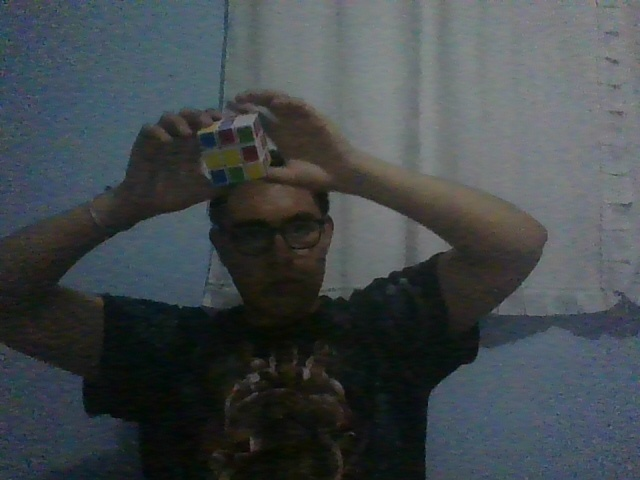rubik: (195, 111, 272, 189)
